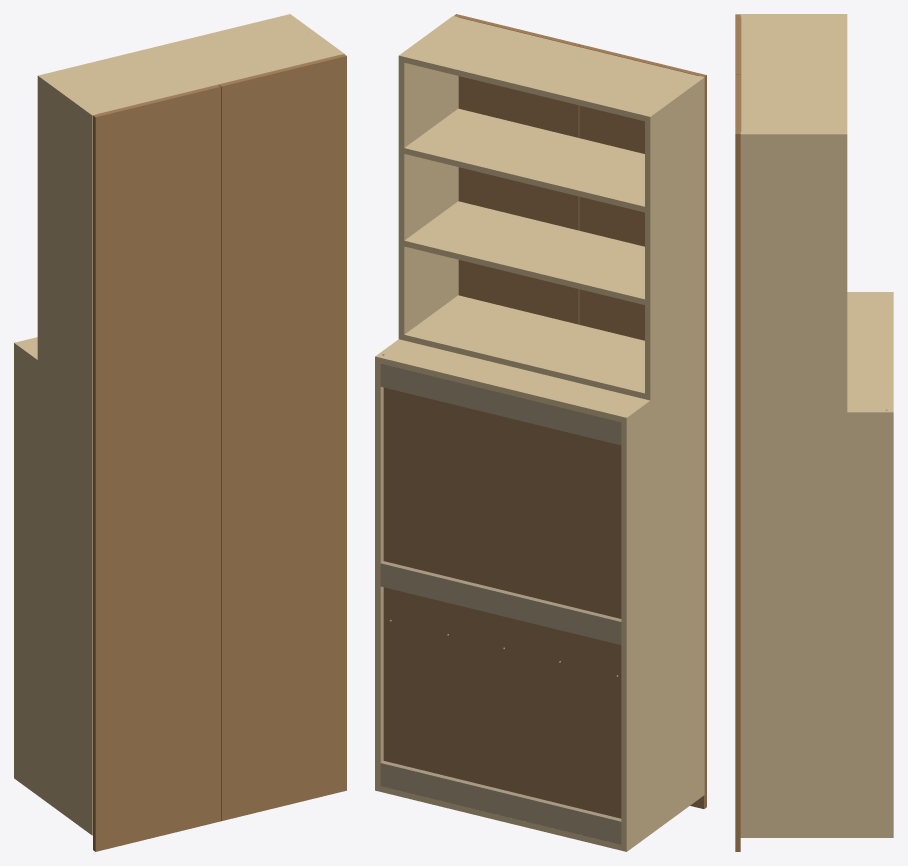
3 views of the same model, side by side, from view 1: azimuth 30°, elevation 25°; view 2: azimuth 150°, elevation 25°; view 3: azimuth 270°, elevation 25° (orthographic). The views are drawn at different scales.
Visible parts, largest first — view 1: b45, b47, b3, b22, b26; view 2: b13, b3, b22, b26, b47, b28, b35, b37, b24, b45, b7, b15 (+4 smaller); view 3: b5, b24, b26, b7, b47, b22, b45.
Part boxes in pixels (x1,y1,x2,y2): b45: [93, 85, 220, 851]; b47: [219, 54, 346, 821]; b3: [14, 341, 92, 835]; b22: [37, 74, 97, 399]; b26: [43, 15, 338, 113]; b13: [383, 387, 621, 818]; b3: [621, 361, 704, 851]; b22: [645, 76, 704, 400]; b26: [404, 17, 698, 121]; b47: [454, 14, 581, 324]; b28: [404, 295, 644, 398]; b35: [404, 201, 644, 304]; b37: [404, 108, 644, 212]; b24: [398, 16, 458, 340]; b45: [579, 44, 706, 808]; b7: [380, 340, 644, 421]; b15: [380, 761, 621, 844]; b5: [740, 409, 893, 837]; b24: [740, 131, 847, 412]; b26: [741, 16, 847, 131]; b7: [847, 294, 893, 410]; b47: [735, 74, 740, 851]; b22: [740, 14, 847, 131]; b45: [735, 14, 740, 74].
Size of the model in its own units: 910 by 2530 by 505.
